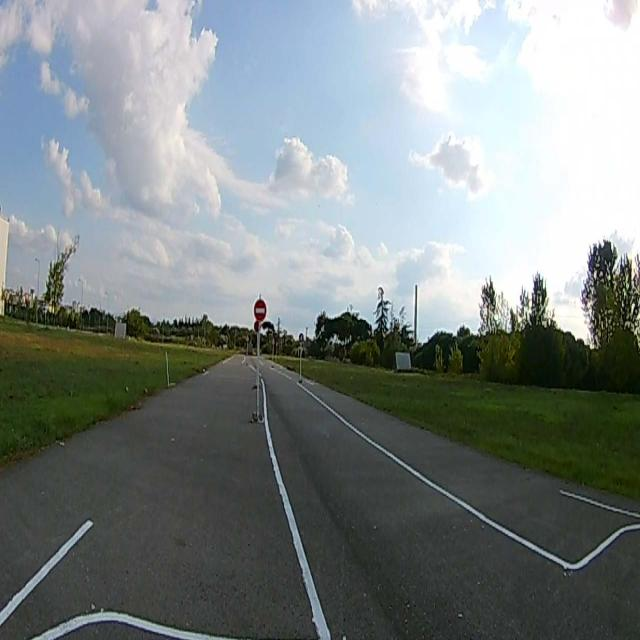girisyok: (254, 300, 267, 322)
